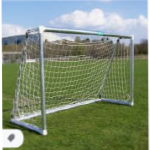goals: (7, 23, 140, 136)
